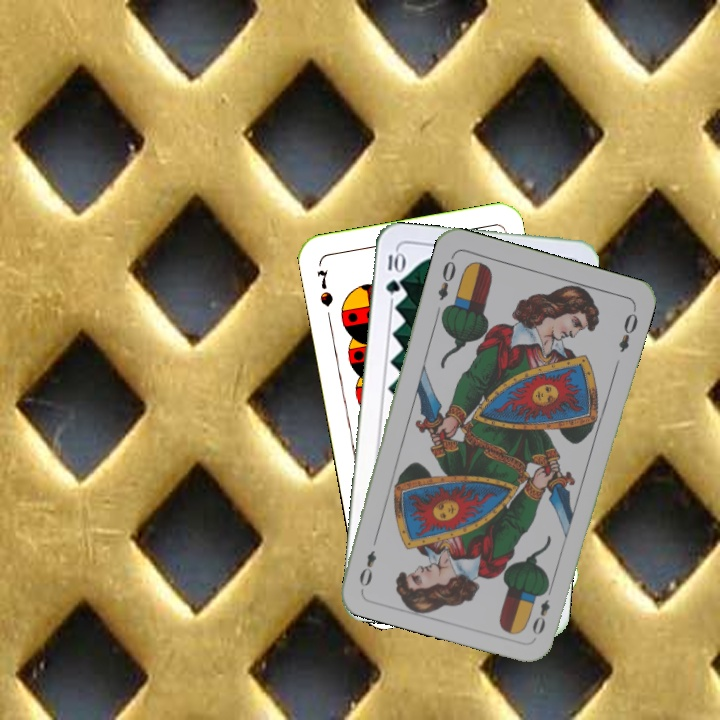EO: (528, 581, 556, 638), (433, 252, 459, 303)
G10: (382, 247, 405, 296)
S7: (313, 265, 336, 309)
